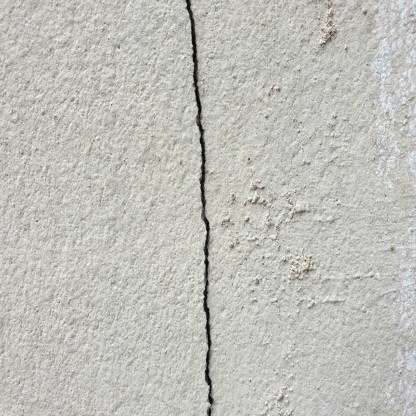crack: (186, 0, 214, 415)
